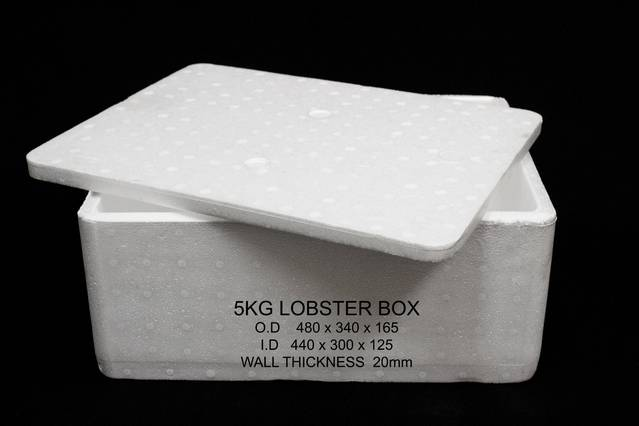Boxes: (27, 64, 555, 383)
